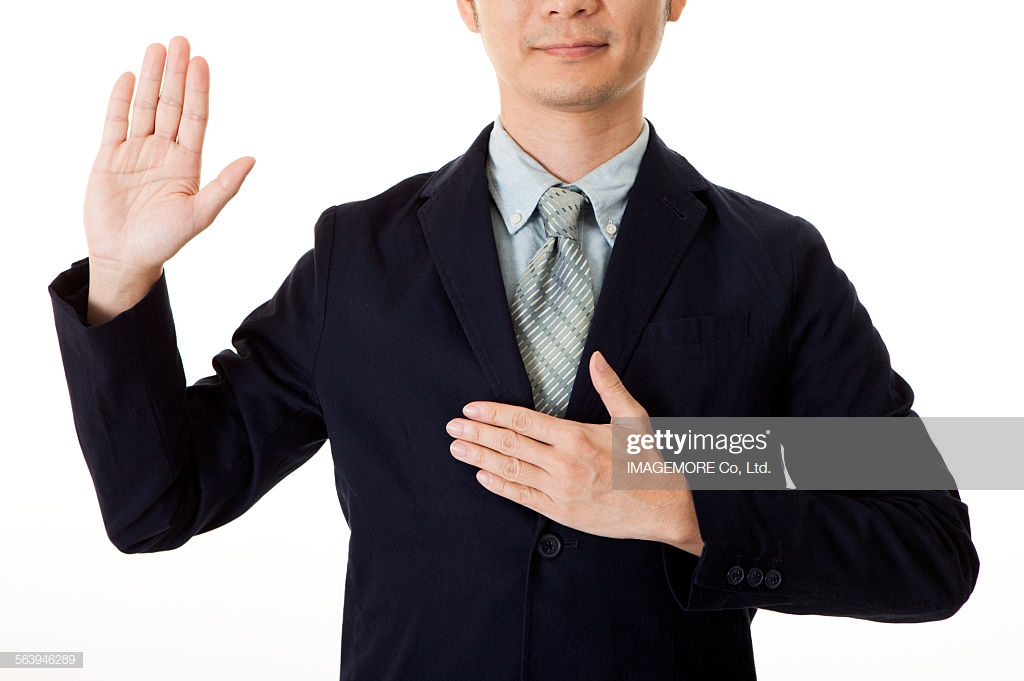open_hand: (56, 25, 271, 276)
